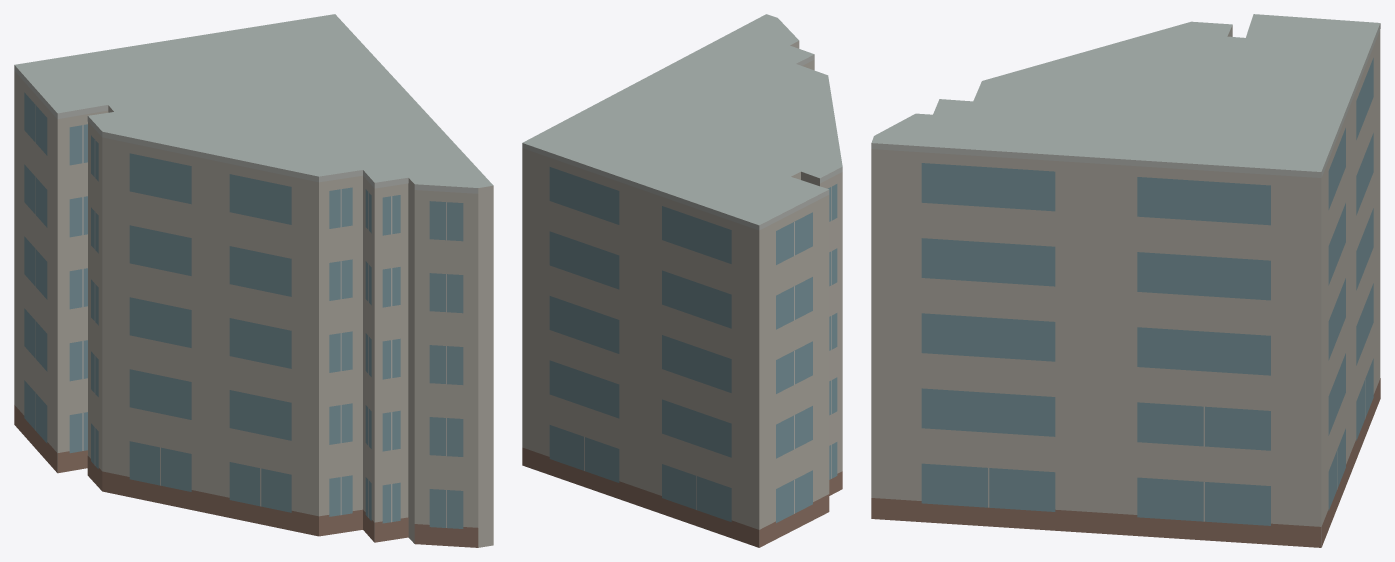
File: survey-upis-32919154.glb
3 renders of one model, left to right at view 1: azimuth 30°, elevation 25°; view 2: azimuth 150°, elevation 25°; view 3: azimuth 270°, elevation 25°, orthographic. The views are drawn at different scales.
Parts seen in each view (by area): view 1: survey-upis-32919154.tmp; view 2: survey-upis-32919154.tmp; view 3: survey-upis-32919154.tmp.
Boxes of the visible parts, <box> form: survey-upis-32919154.tmp: <box>14,14,493,547</box>; survey-upis-32919154.tmp: <box>522,14,842,547</box>; survey-upis-32919154.tmp: <box>871,14,1380,547</box>.
Bounding box in the file's own units: 13.77 × 15.25 × 18.73.
